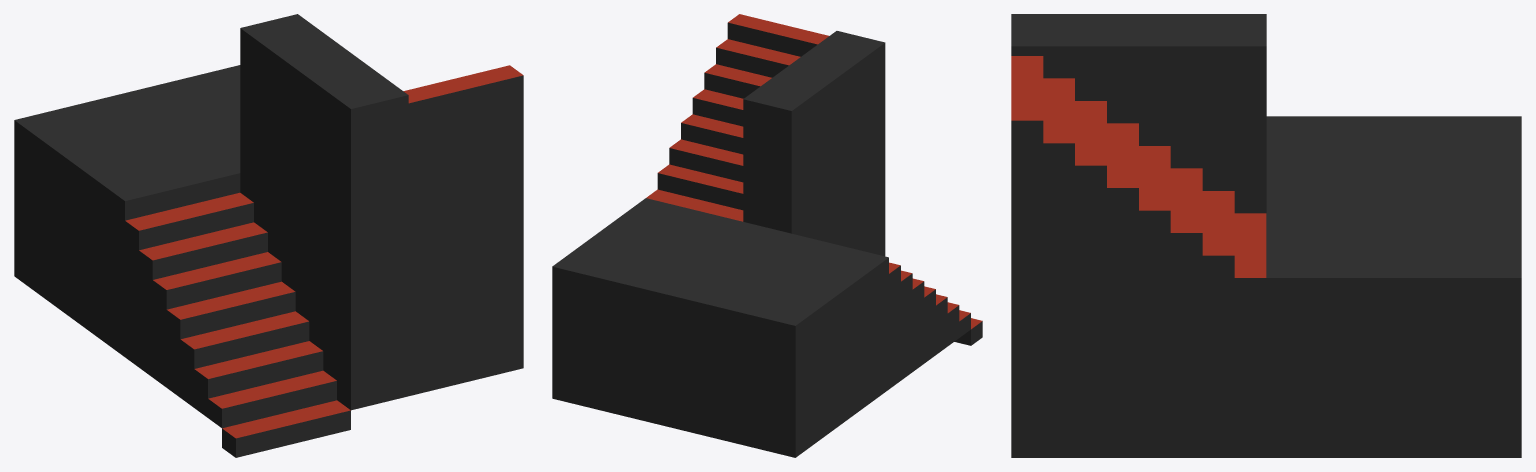
The model's file is Stairs_1.fbx.
3 views of the same model, side by side, from view 1: azimuth 30°, elevation 25°; view 2: azimuth 150°, elevation 25°; view 3: azimuth 270°, elevation 25° (orthographic). The views are drawn at different scales.
Parts seen in each view (by area): view 1: MainStairs.001; view 2: MainStairs.001; view 3: MainStairs.001.
Part boxes in pixels (x1=…): MainStairs.001: x1=14, y1=14, x2=523, y2=457; MainStairs.001: x1=552, y1=14, x2=982, y2=457; MainStairs.001: x1=1011, y1=14, x2=1521, y2=457.
Bounding box in the file's own units: 300 × 319 × 400.
